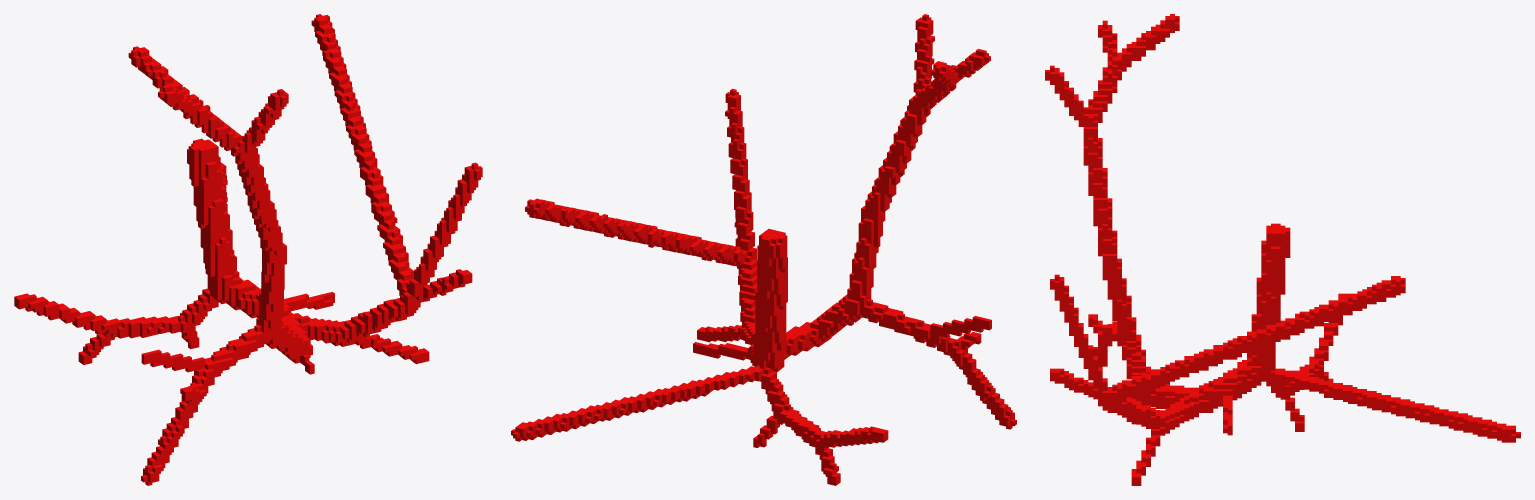
Rendered from ref.obj.
3 views of the same model, side by side, from view 1: azimuth 30°, elevation 25°; view 2: azimuth 150°, elevation 25°; view 3: azimuth 270°, elevation 25° (orthographic). The views are drawn at different scales.
Visible parts, largest first — view 1: anObject; view 2: anObject; view 3: anObject.
Part boxes in pixels (x1,y1,x2,y2): anObject: (14,14,482,485); anObject: (511,14,1016,485); anObject: (1045,14,1520,485).
Bounding box in the file's own units: 79 × 87 × 99.
